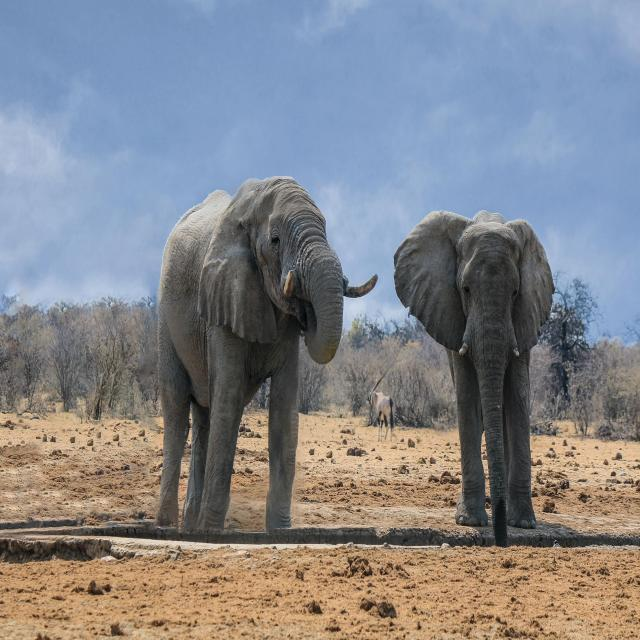Elephant: (156, 176, 378, 529), (394, 211, 556, 547)
